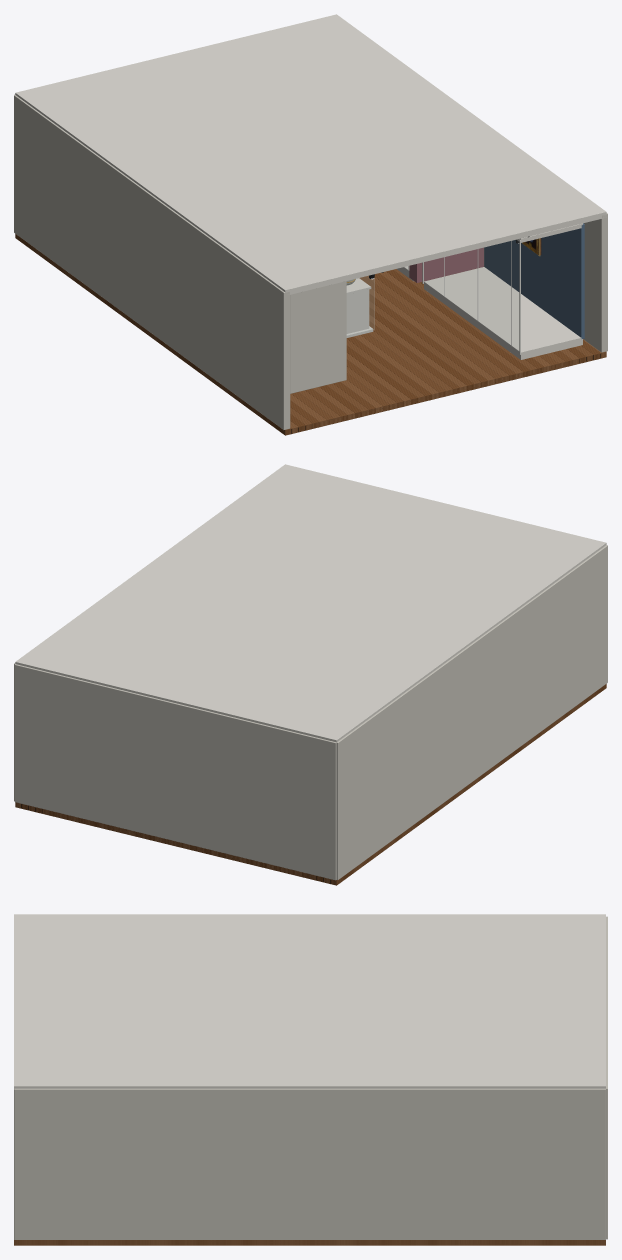
Rendered from european-porcelain-passage.glb.
3 renders of one model, top to bottom at view 1: azimuth 30°, elevation 25°; view 2: azimuth 150°, elevation 25°; view 3: azimuth 270°, elevation 25°, orthographic. The views are drawn at different scales.
Parts seen in each view (by area): view 1: White ceiling perimeter, Back wall, Oak floor, Blue backed wall case, Rose information column, Ceiling cassette AC; view 2: White ceiling perimeter, Back wall, Oak floor; view 3: White ceiling perimeter, Back wall, Oak floor.
Boxes of the visible parts, <box> form: White ceiling perimeter: <box>15,14,606,359</box>; Back wall: <box>14,94,607,429</box>; Oak floor: <box>15,234,606,435</box>; Blue backed wall case: <box>484,223,584,338</box>; Rose information column: <box>409,247,483,282</box>; Ceiling cassette AC: <box>346,239,520,354</box>; White ceiling perimeter: <box>15,464,606,742</box>; Back wall: <box>14,545,607,880</box>; Oak floor: <box>15,684,606,885</box>; White ceiling perimeter: <box>14,914,605,1088</box>; Back wall: <box>14,916,607,1239</box>; Oak floor: <box>14,1240,605,1245</box>.
Size of the model in its own units: 8.88 by 3.8 by 12.84.
Materials: 32 (9 with a texture image).
